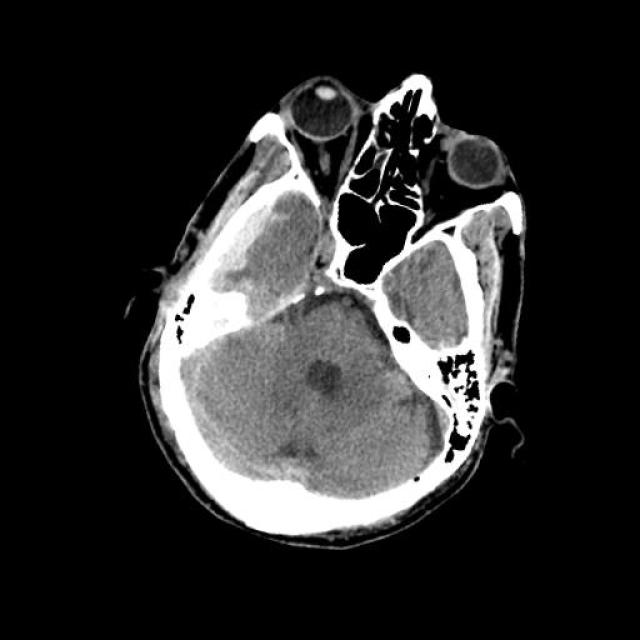Subdural: (186, 171, 296, 334)
